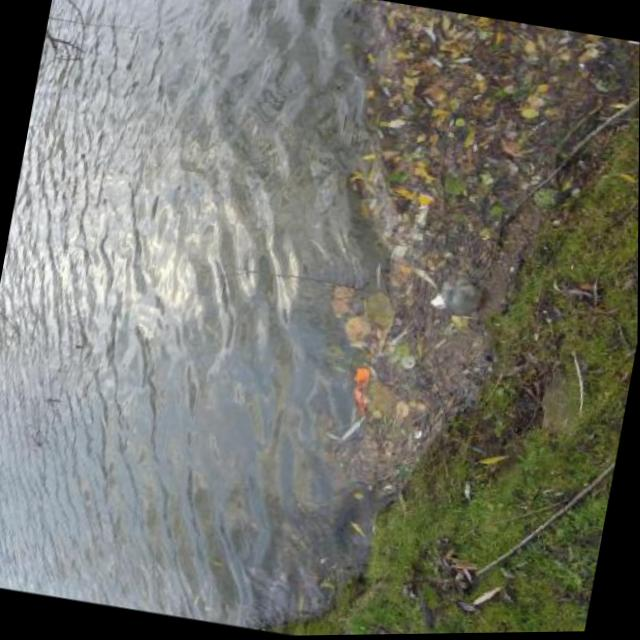plastic: (436, 277, 482, 321)
